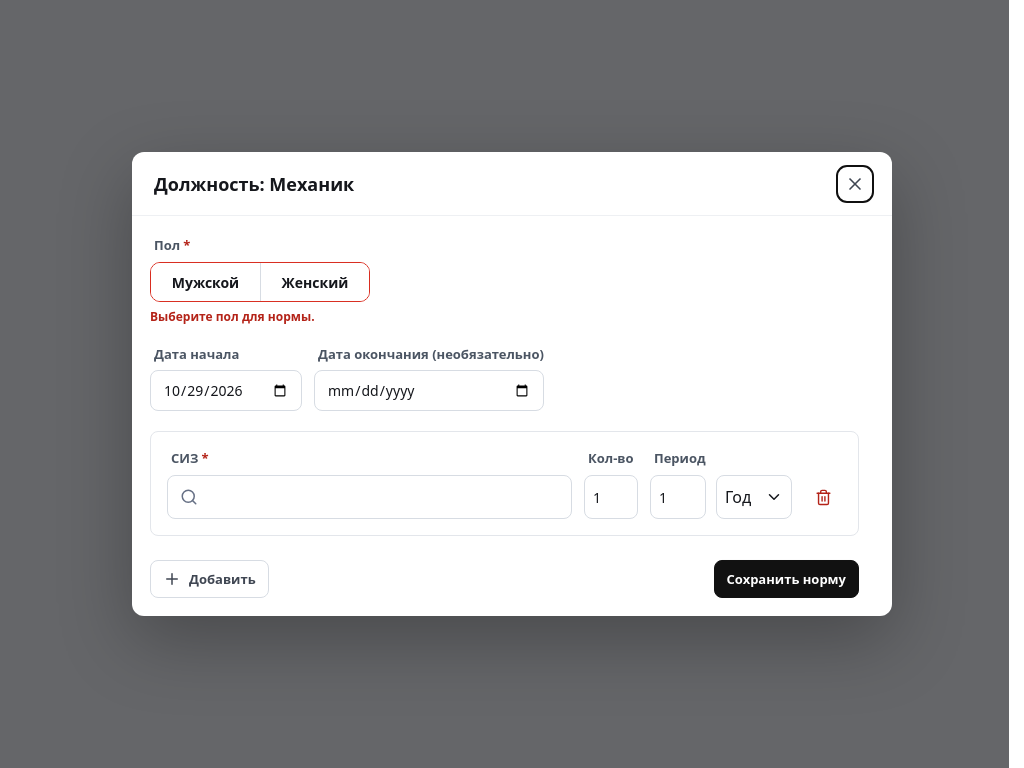
Test case: PPE norm editor: validation › marks gender invalid when native required validation blocks submit
Check: the text "Выберите пол для нормы." is shown, box [150,306,315,323]
Click the radio button labelled "Женский" at (314, 280), box [260,261,369,299]
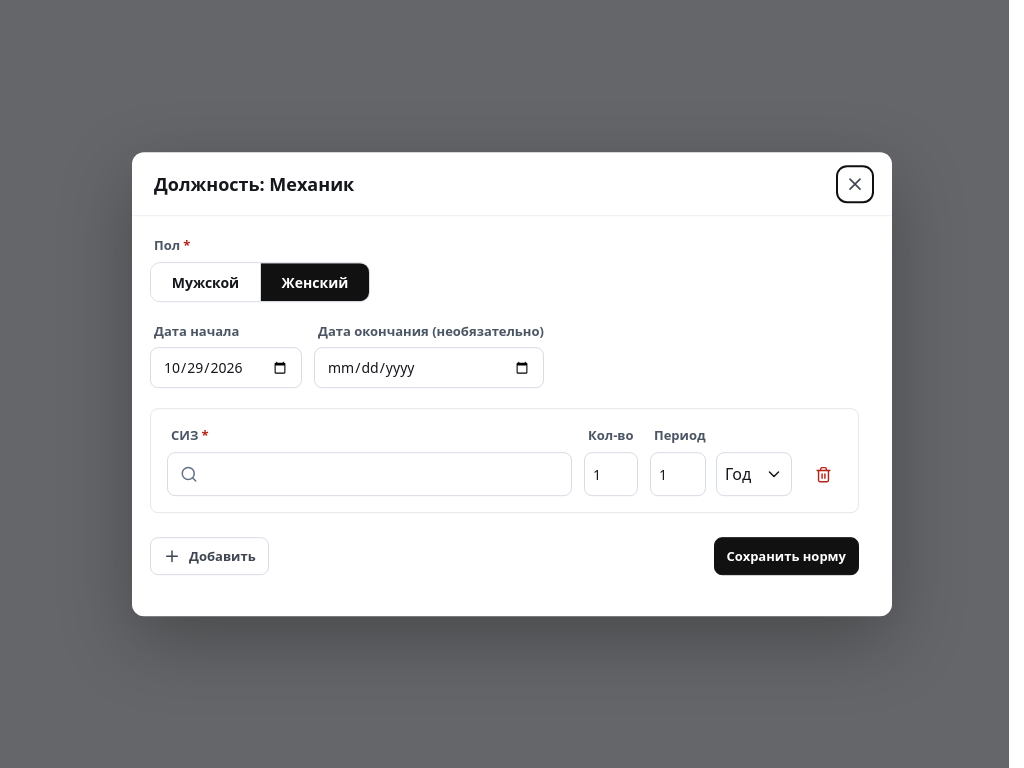
Check: the text "Выберите пол для нормы." is gone
